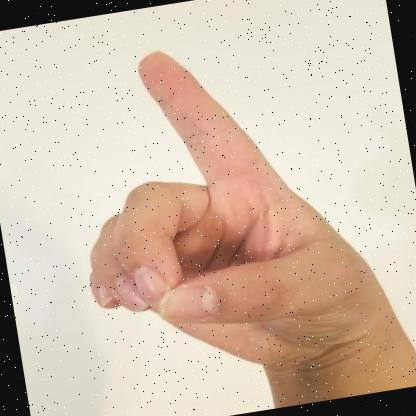D: (89, 50, 412, 374)
